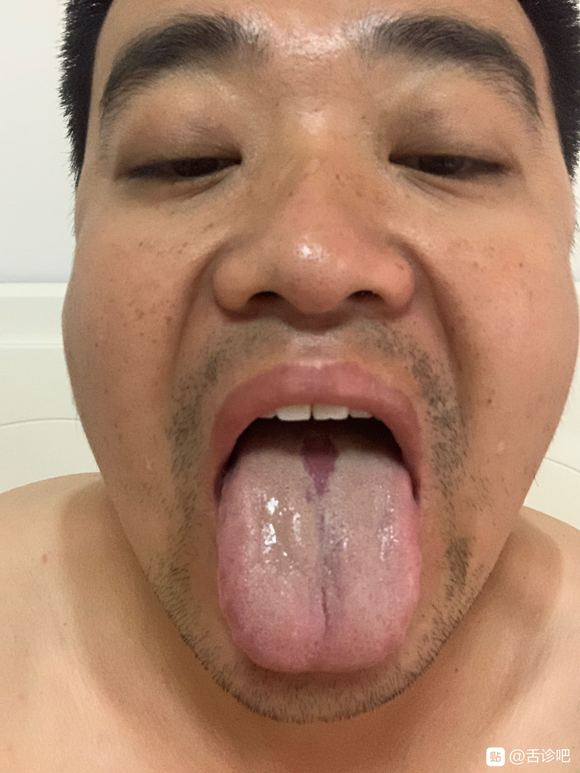baitaishe: (217, 436, 422, 673)
botaishe: (295, 436, 348, 504)
liewenshe: (318, 584, 333, 636)
